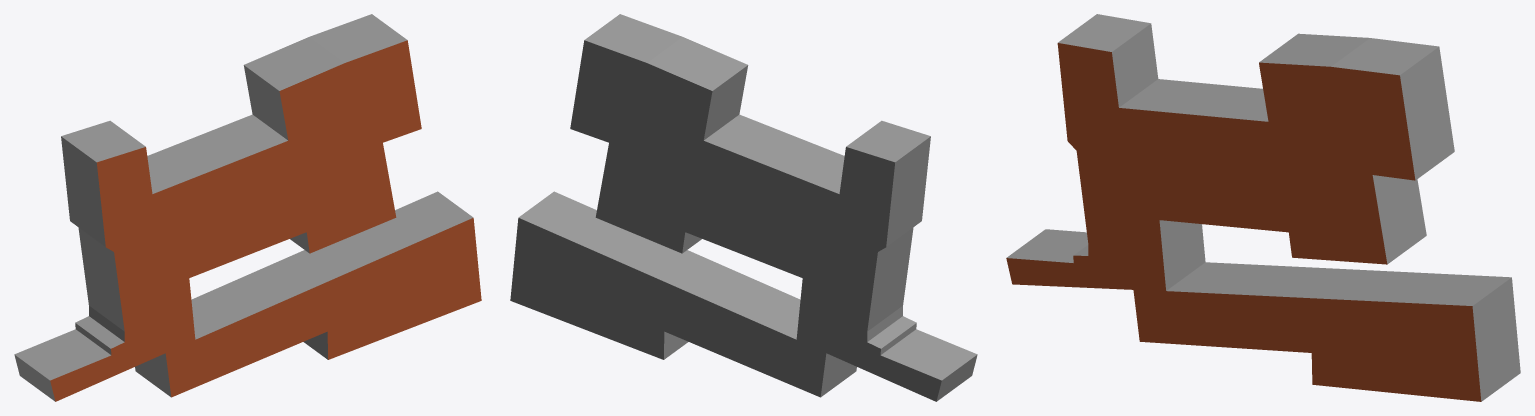
File: construction_1958_assumed_A_Casa_h6m.obj
3 views of the same model, side by side, from view 1: azimuth 30°, elevation 25°; view 2: azimuth 150°, elevation 25°; view 3: azimuth 330°, elevation 25° (orthographic). The views are drawn at different scales.
Parts seen in each view (by area): view 1: construction_1958_assumed_A_Casa; view 2: construction_1958_assumed_A_Casa; view 3: construction_1958_assumed_A_Casa.
Part boxes in pixels (left/top/right/bottom): construction_1958_assumed_A_Casa: left=14, top=14, right=481, bottom=401; construction_1958_assumed_A_Casa: left=510, top=14, right=977, bottom=401; construction_1958_assumed_A_Casa: left=1006, top=14, right=1520, bottom=401.
Size of the model in its own units: 41.77 by 27.79 by 6.
